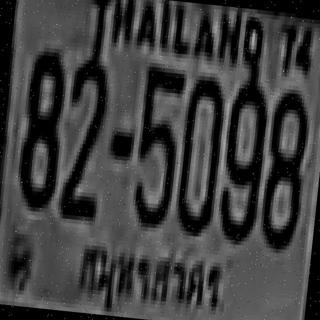N00: (173, 70, 225, 234)
N02: (59, 59, 110, 218), (60, 53, 111, 204)
N05: (130, 62, 184, 225)
N08: (12, 48, 66, 207), (256, 88, 310, 246)
N09: (216, 77, 268, 240)
P58: (69, 227, 230, 320)
